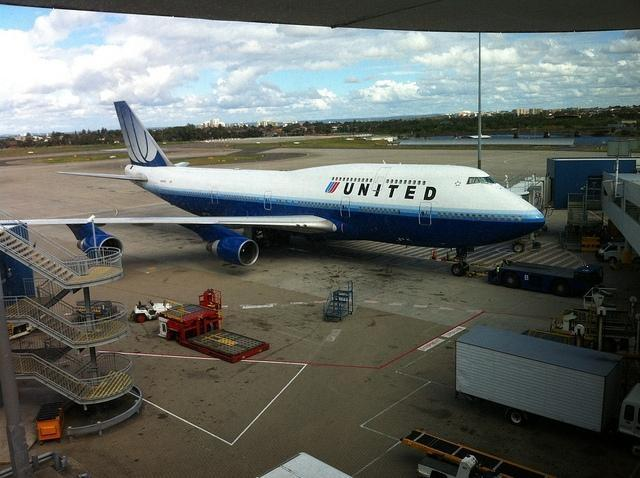truck: (456, 325, 640, 458), (596, 242, 636, 264)
